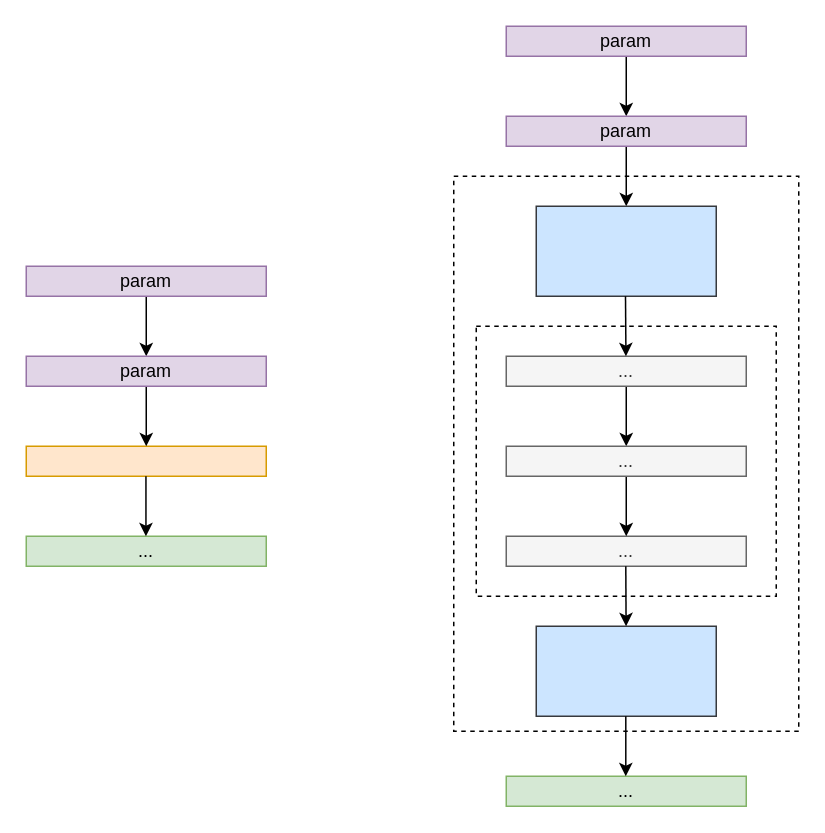
This 825x833 diagram has some shape labels left out. Each missing label, with the centre of its shape:
"func_entry" belongs at point (625, 250).
"func_exit" belongs at point (625, 670).
"function_call" belongs at point (145, 460).
